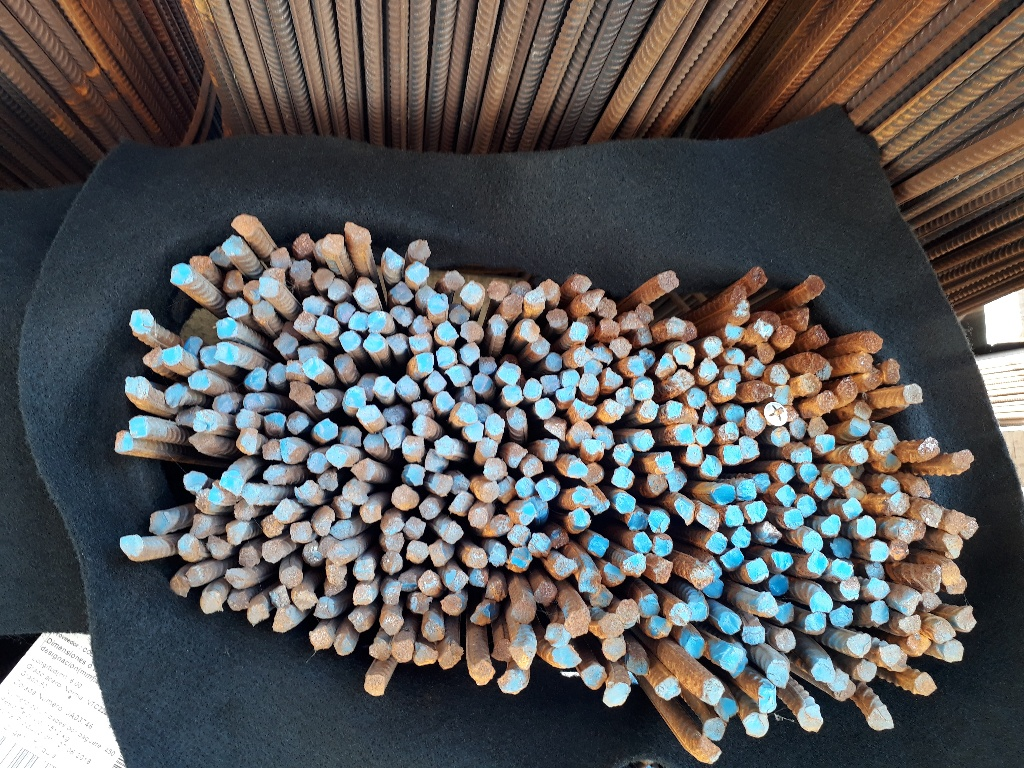dipstick: (625, 642, 650, 675), (598, 397, 626, 425), (896, 588, 923, 617), (616, 598, 641, 629), (720, 647, 746, 676), (700, 677, 725, 707), (754, 589, 779, 619), (757, 679, 778, 714), (206, 533, 233, 560), (651, 353, 679, 379), (602, 681, 630, 707), (741, 712, 769, 738), (867, 704, 895, 730), (391, 485, 420, 510), (647, 555, 672, 584), (753, 313, 780, 339), (344, 220, 371, 246), (279, 437, 306, 463), (349, 606, 376, 632), (696, 504, 721, 532), (563, 609, 588, 637), (510, 642, 535, 670), (592, 421, 616, 450), (767, 659, 790, 689), (343, 478, 369, 504), (439, 642, 464, 669), (656, 674, 681, 701), (791, 351, 823, 372), (551, 647, 583, 668), (674, 497, 697, 526), (231, 213, 260, 236), (497, 670, 526, 693), (843, 634, 872, 657), (312, 505, 333, 536), (289, 378, 314, 404), (293, 587, 319, 612), (413, 640, 439, 665), (469, 660, 494, 686), (690, 564, 715, 590), (829, 604, 855, 629), (859, 329, 885, 354), (569, 421, 593, 448), (911, 673, 938, 697), (940, 531, 964, 558), (354, 276, 377, 304), (237, 428, 260, 456), (212, 392, 240, 415), (743, 406, 765, 435), (497, 361, 522, 386), (773, 325, 798, 350), (743, 558, 768, 583), (274, 332, 300, 356), (220, 470, 244, 496), (190, 512, 214, 538), (178, 533, 202, 559), (118, 534, 144, 558), (508, 545, 532, 571), (544, 623, 571, 646), (812, 657, 835, 684), (953, 605, 976, 632), (285, 360, 313, 382), (672, 345, 697, 369), (713, 378, 738, 402), (696, 358, 721, 382), (652, 450, 677, 474), (608, 465, 633, 489), (380, 246, 404, 271), (381, 424, 405, 449), (448, 492, 472, 517), (582, 664, 606, 689), (670, 369, 696, 392), (726, 302, 752, 325), (380, 510, 403, 536), (201, 589, 224, 615), (859, 368, 885, 391), (698, 455, 725, 477), (665, 467, 687, 494), (124, 376, 151, 398), (597, 614, 624, 636), (235, 409, 263, 430), (501, 294, 525, 318), (716, 421, 740, 445), (798, 373, 822, 397), (774, 484, 798, 508), (428, 473, 452, 497), (511, 600, 535, 624), (612, 443, 635, 468), (315, 418, 340, 441), (131, 309, 154, 334), (529, 532, 552, 557), (638, 593, 661, 618), (669, 602, 692, 627), (719, 611, 742, 636), (671, 423, 697, 445), (446, 567, 468, 593), (214, 341, 241, 362), (175, 406, 203, 426), (321, 233, 344, 257), (343, 386, 367, 409), (245, 367, 268, 391), (170, 262, 194, 285), (149, 511, 173, 534), (262, 540, 286, 563), (406, 539, 429, 563), (622, 553, 646, 576), (603, 638, 626, 662), (716, 698, 739, 722), (819, 513, 842, 537), (942, 511, 966, 534), (887, 492, 910, 516), (517, 320, 542, 342), (720, 345, 745, 367), (711, 485, 736, 507), (628, 508, 650, 533), (389, 282, 414, 304), (292, 232, 314, 257), (315, 312, 340, 334), (483, 458, 508, 480), (264, 412, 286, 437), (648, 616, 673, 638), (806, 550, 828, 575), (839, 577, 861, 602), (932, 620, 957, 642), (906, 633, 931, 655), (837, 377, 859, 402), (738, 434, 759, 460), (897, 616, 923, 637), (921, 586, 941, 613), (410, 332, 433, 355), (416, 352, 439, 375), (433, 391, 456, 414), (632, 430, 655, 453), (614, 491, 637, 514), (648, 510, 671, 533), (143, 345, 166, 368), (327, 545, 350, 568), (508, 524, 531, 547), (720, 547, 743, 570), (878, 645, 901, 668), (445, 364, 469, 386), (327, 277, 349, 301), (289, 258, 311, 282), (315, 388, 337, 412), (195, 489, 217, 513), (351, 459, 375, 481), (419, 497, 441, 521), (463, 548, 487, 570), (568, 506, 592, 528), (768, 572, 790, 596), (853, 658, 877, 680), (834, 679, 858, 701), (697, 742, 721, 764), (799, 461, 820, 486), (796, 493, 817, 518), (381, 403, 406, 424), (412, 414, 437, 435), (183, 471, 208, 492), (274, 498, 295, 523), (534, 477, 555, 502), (307, 628, 332, 649), (471, 600, 492, 625), (685, 635, 706, 660), (741, 624, 766, 645), (404, 262, 430, 282), (571, 399, 597, 419), (332, 494, 352, 520), (188, 431, 215, 450), (534, 397, 557, 419), (471, 372, 494, 394), (636, 400, 658, 423), (775, 460, 797, 483), (339, 330, 362, 352), (333, 300, 355, 323), (294, 311, 317, 333), (295, 480, 318, 502), (290, 521, 313, 543), (262, 514, 284, 537), (281, 566, 303, 589), (248, 604, 270, 627), (409, 590, 431, 613), (369, 638, 391, 661), (392, 640, 415, 662), (424, 620, 447, 642), (579, 568, 601, 591), (604, 562, 626, 585), (536, 582, 558, 605), (589, 585, 612, 607), (492, 639, 515, 661), (759, 521, 782, 543), (810, 592, 833, 614), (502, 384, 526, 405), (806, 324, 830, 345), (817, 389, 838, 413), (507, 444, 528, 468), (252, 301, 276, 322), (442, 520, 463, 544), (500, 475, 518, 503), (238, 546, 259, 570), (314, 595, 335, 619), (776, 628, 797, 652), (805, 612, 826, 636), (922, 504, 943, 528), (844, 479, 868, 500), (870, 601, 890, 626), (940, 561, 960, 586), (831, 466, 856, 486), (460, 343, 479, 369), (262, 465, 288, 484), (359, 374, 377, 401), (430, 541, 448, 568), (460, 320, 482, 342), (664, 316, 686, 338), (812, 477, 834, 499), (441, 594, 463, 616), (953, 449, 975, 471), (848, 443, 870, 465), (436, 321, 459, 342), (460, 281, 481, 304), (658, 270, 681, 291), (538, 278, 559, 301), (435, 346, 456, 369), (545, 417, 566, 440), (723, 321, 744, 344), (722, 446, 745, 467), (685, 444, 706, 467), (646, 472, 667, 495), (269, 247, 292, 268), (425, 449, 448, 470), (403, 435, 424, 458), (339, 425, 362, 446), (302, 357, 325, 378), (287, 411, 308, 434), (226, 520, 247, 543), (383, 613, 404, 636), (363, 675, 386, 696), (831, 558, 852, 581), (868, 577, 889, 600), (943, 639, 964, 662), (407, 239, 431, 259), (507, 407, 527, 431), (302, 294, 326, 314), (215, 317, 239, 337), (226, 298, 250, 318), (405, 516, 425, 540), (270, 585, 290, 609), (550, 525, 570, 549), (830, 667, 850, 691), (567, 274, 592, 293), (789, 445, 814, 464), (319, 534, 338, 559), (881, 358, 899, 384), (610, 336, 632, 357), (686, 387, 708, 408), (703, 336, 724, 358), (664, 400, 686, 421), (695, 425, 716, 447), (736, 478, 757, 500), (747, 265, 769, 286), (742, 357, 763, 379), (806, 415, 828, 436), (347, 311, 369, 332), (396, 374, 417, 396), (476, 437, 498, 458), (199, 345, 220, 367), (114, 430, 135, 452), (226, 568, 248, 589), (486, 578, 507, 600), (571, 484, 593, 505), (731, 527, 753, 548), (746, 501, 767, 523), (802, 531, 823, 553), (944, 575, 966, 596), (909, 476, 931, 497), (918, 437, 940, 458), (849, 415, 871, 436), (357, 405, 380, 425), (306, 453, 329, 473), (328, 443, 348, 466), (223, 270, 243, 293), (169, 575, 189, 598), (490, 515, 513, 535), (352, 585, 375, 605), (896, 521, 916, 544), (879, 453, 902, 473), (424, 372, 448, 391), (189, 254, 213, 273), (165, 383, 184, 407), (304, 541, 323, 565), (857, 516, 876, 540), (635, 303, 656, 324), (804, 275, 825, 296), (774, 384, 795, 405), (771, 427, 792, 448), (188, 369, 209, 390), (360, 502, 381, 523), (354, 558, 375, 579), (381, 552, 402, 573), (784, 509, 805, 530), (902, 383, 923, 404), (426, 293, 448, 313), (545, 308, 567, 328), (620, 310, 642, 330), (457, 402, 477, 424), (726, 282, 748, 302), (815, 433, 835, 455), (363, 433, 385, 453), (269, 362, 289, 384), (261, 440, 283, 460), (222, 236, 244, 256), (210, 247, 232, 267), (405, 464, 425, 486), (332, 519, 352, 541), (477, 482, 499, 502), (228, 591, 250, 611), (326, 564, 348, 584), (334, 634, 354, 656), (588, 535, 608, 557), (652, 534, 672, 556), (705, 533, 727, 553), (771, 550, 793, 570), (800, 713, 822, 733), (530, 333, 549, 356), (870, 539, 889, 562), (296, 346, 323, 362), (419, 569, 437, 593), (489, 542, 507, 566), (926, 565, 942, 592), (871, 438, 895, 456), (592, 345, 613, 365), (488, 282, 509, 302), (523, 379, 543, 400), (616, 386, 636, 407), (789, 418, 809, 439), (367, 311, 388, 331), (314, 269, 335, 289), (163, 345, 184, 365), (451, 474, 471, 495), (842, 498, 863, 518), (889, 538, 909, 559), (387, 333, 406, 355), (489, 314, 508, 336), (444, 270, 466, 289), (623, 356, 645, 375), (579, 374, 598, 396), (477, 355, 499, 374), (792, 308, 811, 330), (769, 362, 788, 384), (485, 412, 504, 434), (434, 435, 456, 454), (243, 393, 265, 412), (234, 500, 256, 519), (831, 538, 853, 557), (261, 267, 287, 283), (725, 503, 743, 526), (381, 534, 404, 552), (554, 558, 577, 576), (778, 601, 796, 624), (701, 402, 718, 426), (518, 502, 535, 526), (384, 582, 401, 606), (961, 516, 978, 540), (364, 333, 384, 353), (417, 286, 437, 306), (569, 322, 589, 342), (638, 347, 658, 367), (468, 509, 488, 529), (854, 400, 874, 420), (449, 304, 470, 323), (259, 277, 278, 298), (374, 376, 395, 395), (469, 567, 488, 588), (632, 532, 651, 553), (855, 352, 874, 373), (603, 367, 621, 389), (412, 398, 434, 416), (540, 438, 558, 460), (129, 415, 147, 437), (185, 566, 203, 588), (540, 375, 560, 394), (319, 471, 338, 491), (590, 496, 610, 515), (599, 319, 620, 337), (757, 343, 775, 364), (566, 460, 587, 478), (585, 464, 603, 485), (244, 279, 262, 300), (243, 482, 261, 503), (515, 477, 533, 498), (555, 386, 577, 403), (880, 477, 902, 494), (876, 425, 898, 442), (324, 580, 347, 596), (635, 325, 653, 345), (633, 381, 653, 399), (459, 384, 477, 404), (725, 404, 745, 422), (523, 458, 544, 475), (582, 438, 604, 454), (210, 481, 225, 504), (574, 347, 593, 365), (525, 287, 544, 305), (399, 571, 417, 590), (690, 601, 707, 621), (583, 292, 602, 309), (545, 353, 564, 370), (706, 559, 722, 579), (466, 422, 484, 439), (334, 355, 353, 371), (562, 370, 582, 385), (510, 281, 526, 298), (476, 403, 493, 419), (584, 359, 602, 374)
